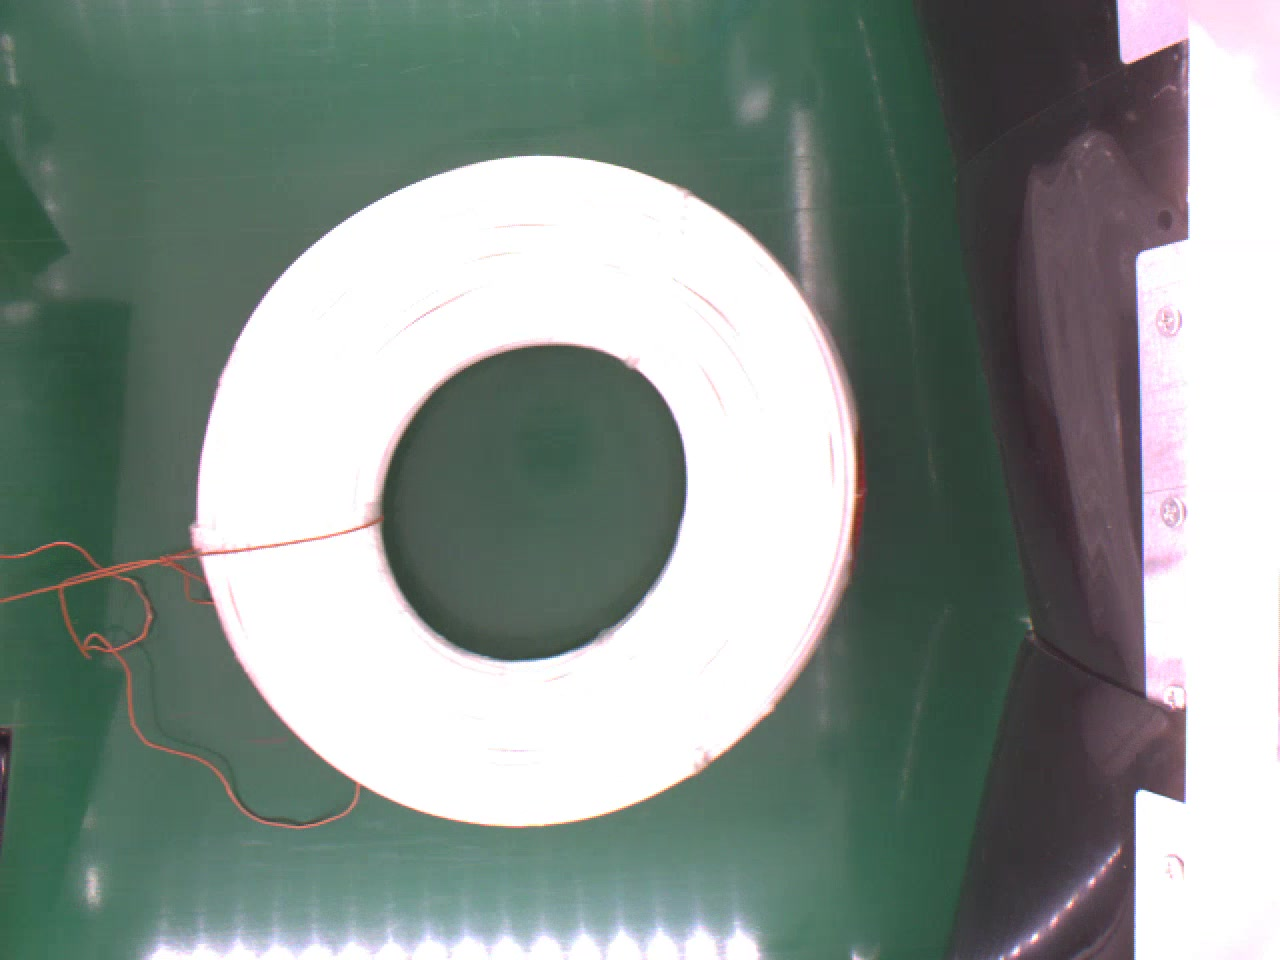white: (189, 152, 873, 834)
